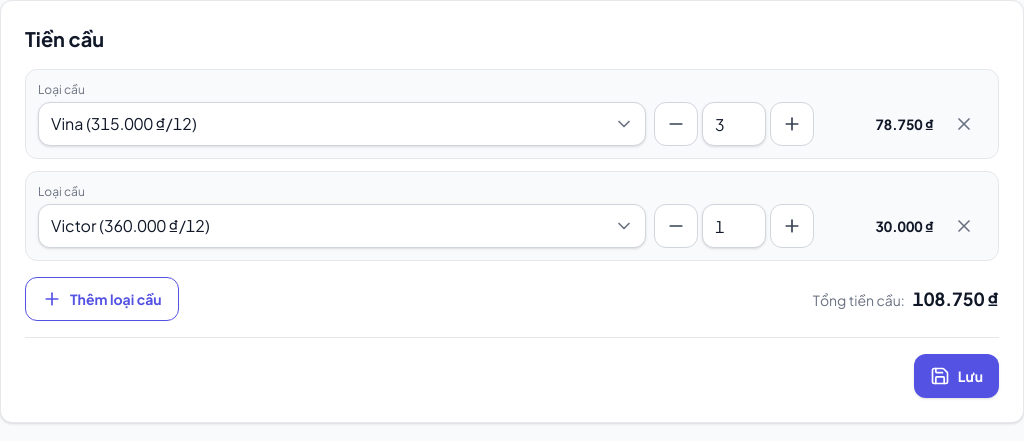
it: ShuttleUsageEditor (I/O matrix) › remove is an Icon Button with the X icon; it removes the row and updates the total
Click the button named "Xóa" next to "78.750 ₫".
click(964, 124)  # box 942,102 -> 986,146
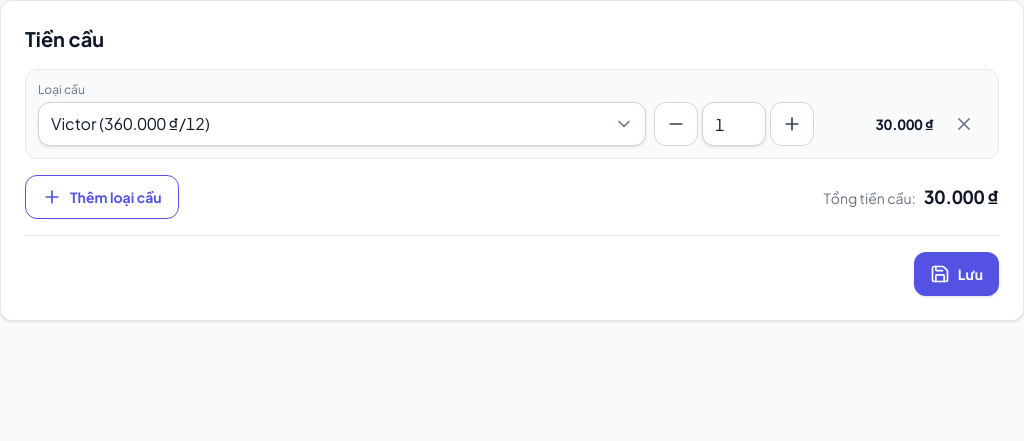
Expected: the text with test id "shuttle-total" shows "30.000", 924,185 -> 999,208
